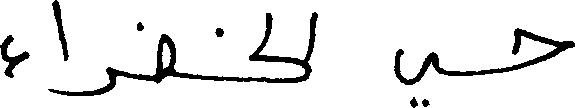X: (251, 7, 316, 87), (514, 23, 574, 74), (397, 44, 435, 107), (69, 62, 114, 100), (0, 30, 25, 82), (54, 0, 67, 100), (158, 29, 173, 87)
